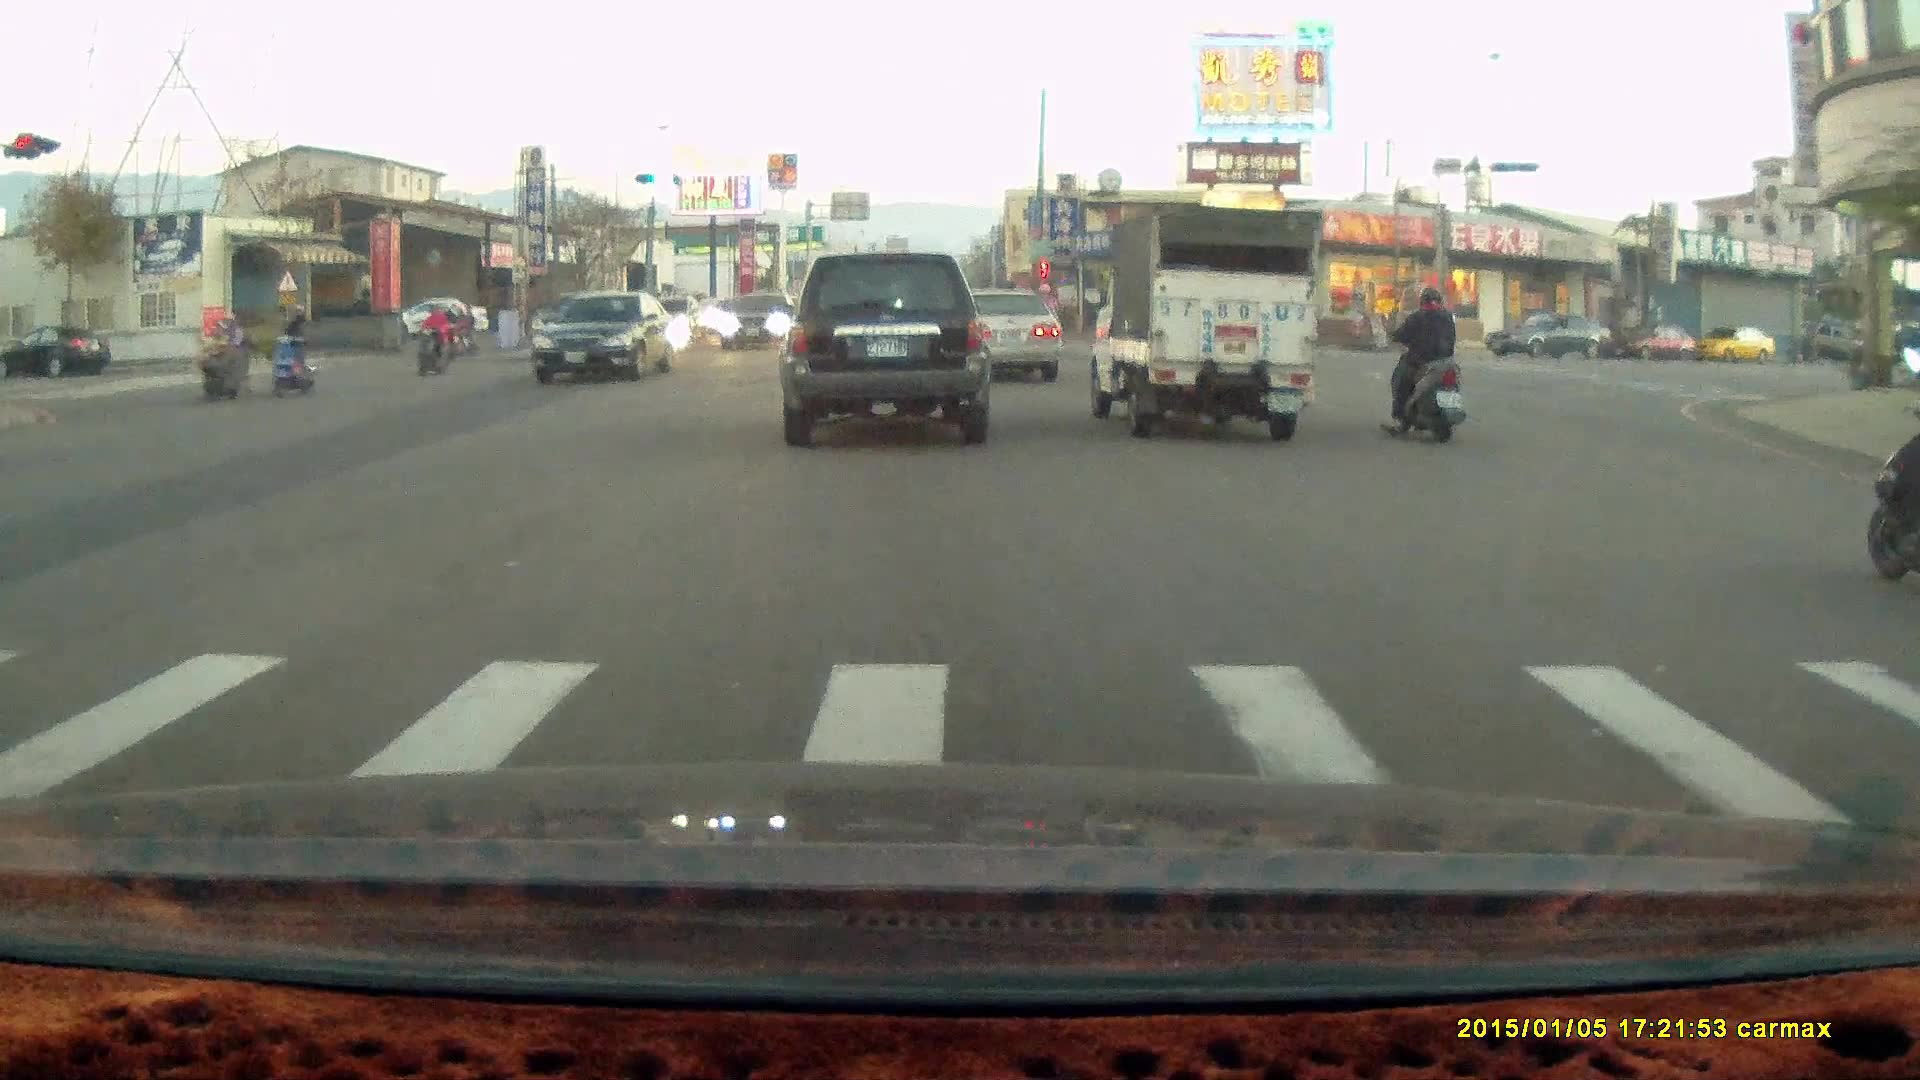rider: (1381, 283, 1466, 442), (1862, 379, 1920, 591), (192, 309, 254, 407), (265, 301, 316, 396), (414, 297, 454, 376)
vehicle: (1080, 206, 1321, 444), (776, 249, 991, 449), (533, 292, 684, 386), (943, 287, 1063, 385), (953, 287, 1066, 384), (1483, 308, 1617, 362), (718, 294, 801, 353), (402, 300, 487, 345), (1693, 325, 1779, 365), (1618, 326, 1698, 363)
